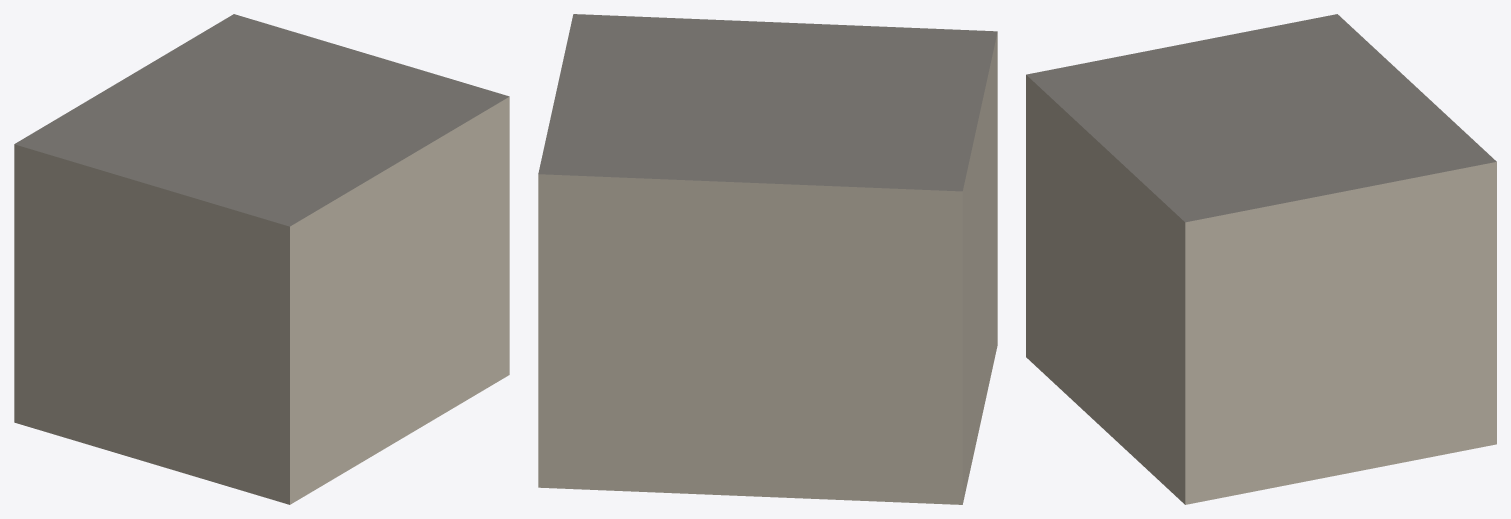
3 views of the same model, side by side, from view 1: azimuth 30°, elevation 25°; view 2: azimuth 150°, elevation 25°; view 3: azimuth 270°, elevation 25° (orthographic). The views are drawn at different scales.
Visible parts, largest first — view 1: HP-w369237916; view 2: HP-w369237916; view 3: HP-w369237916.
Boxes of the visible parts, x1=… form: HP-w369237916: x1=14, y1=14, x2=509, y2=504; HP-w369237916: x1=538, y1=14, x2=997, y2=504; HP-w369237916: x1=1026, y1=14, x2=1496, y2=504.
Size of the model in its own units: 28.47 by 18 by 27.19.
